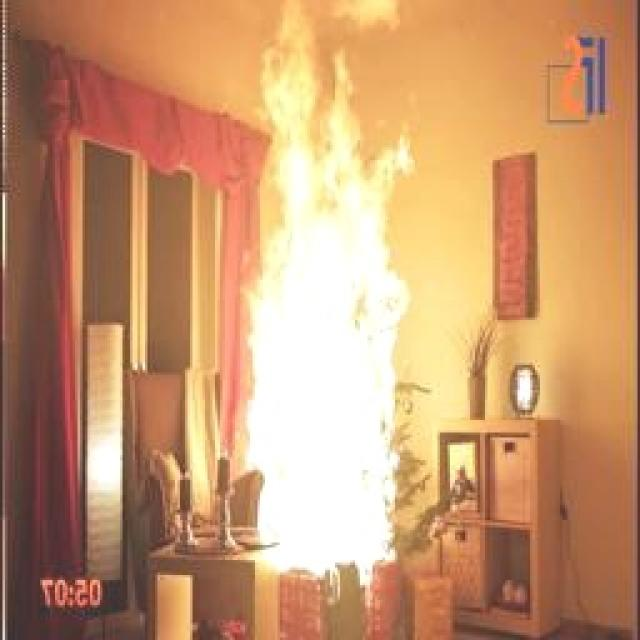fire: (179, 3, 461, 585)
